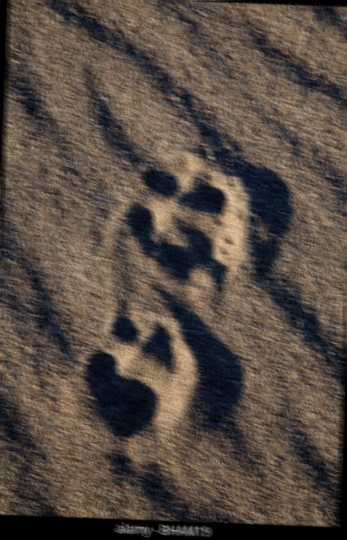coyote: (79, 311, 179, 444), (125, 160, 229, 285)
